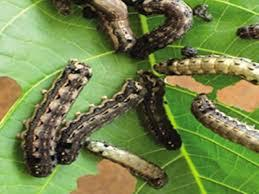fallarmy_worm: (17, 55, 97, 181), (82, 136, 173, 187), (185, 90, 259, 152), (123, 1, 201, 56), (149, 50, 259, 83)
